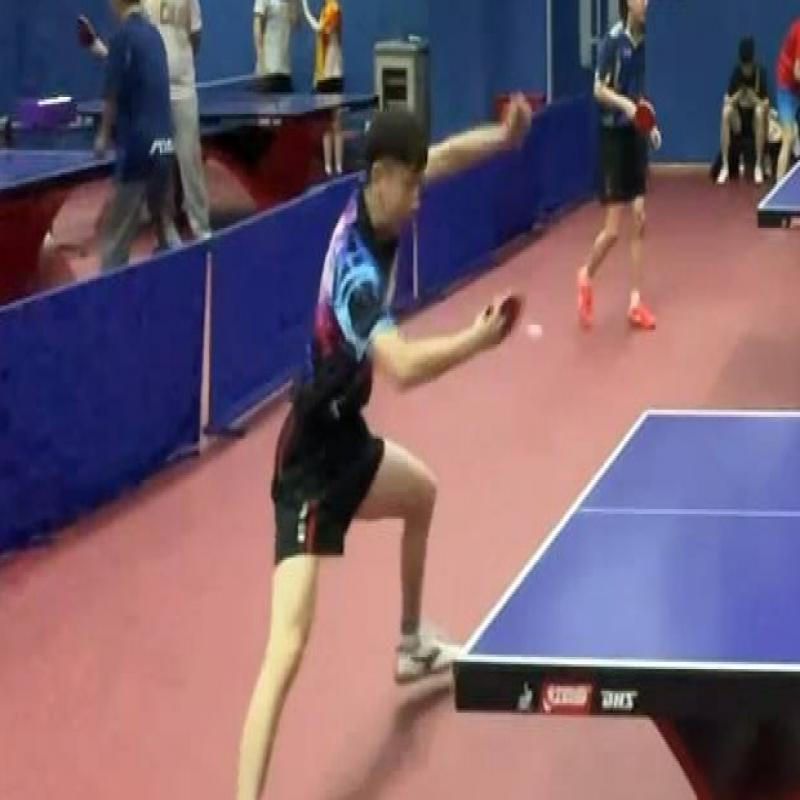bats: (479, 276, 529, 352)
